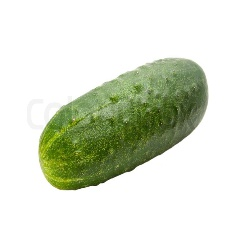cucumber: (38, 57, 207, 191)
